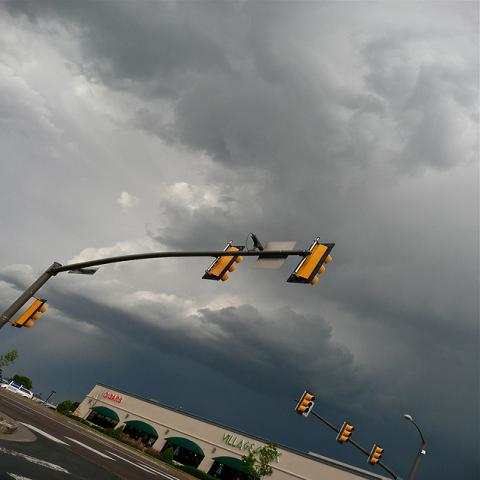car: (0, 383, 34, 401)
